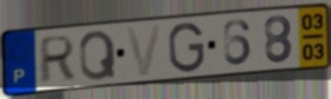6: (222, 18, 254, 68)
8: (263, 14, 294, 65)
G: (166, 20, 207, 75)
Q: (77, 28, 119, 83)
R: (37, 33, 78, 87)
V: (124, 22, 165, 79)
